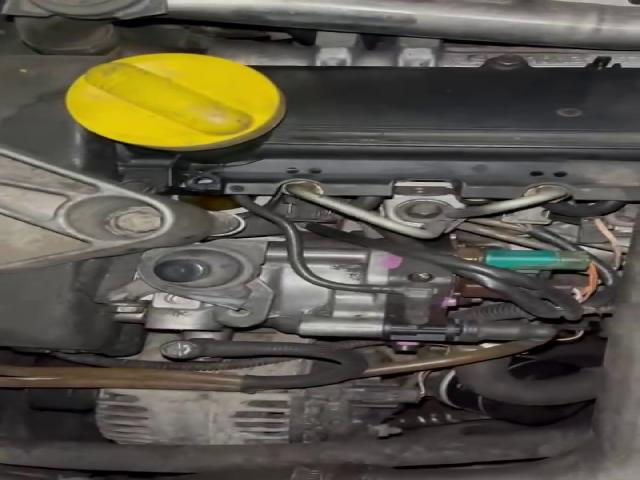alternator: (97, 389, 292, 444)
high_pressure_pump: (144, 243, 545, 341)
